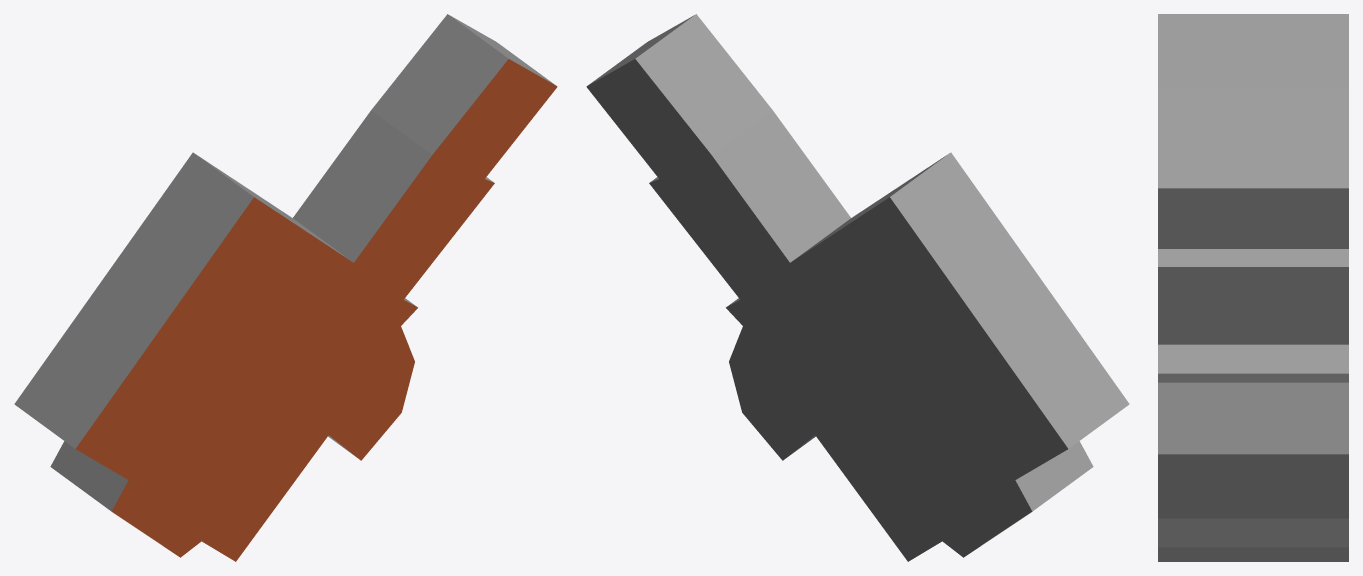
File: construction_6541_assumed_A_Casa_h6m.obj
3 renders of one model, left to right at view 1: azimuth 30°, elevation 25°; view 2: azimuth 150°, elevation 25°; view 3: azimuth 270°, elevation 25°, orthographic. The views are drawn at different scales.
Parts seen in each view (by area): view 1: construction_6541_assumed_A_Casa; view 2: construction_6541_assumed_A_Casa; view 3: construction_6541_assumed_A_Casa.
Boxes of the visible parts, bbox=[...] form: construction_6541_assumed_A_Casa: bbox=[14, 14, 557, 561]; construction_6541_assumed_A_Casa: bbox=[586, 14, 1129, 561]; construction_6541_assumed_A_Casa: bbox=[1158, 14, 1348, 561].
Bounding box in the file's own units: 27.3 × 23.62 × 6.
